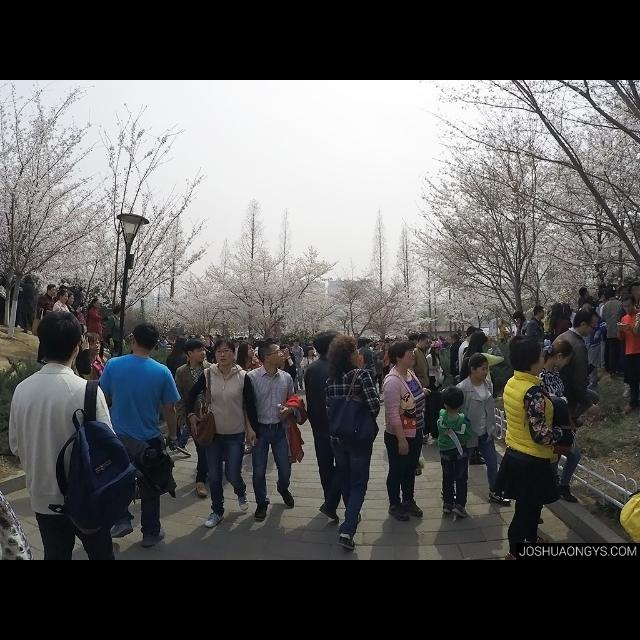head: (36, 310, 84, 362), (511, 337, 547, 378), (131, 324, 161, 354), (388, 340, 418, 368), (548, 340, 576, 370), (333, 339, 362, 367), (573, 307, 599, 338), (317, 330, 345, 358), (215, 338, 238, 368), (258, 342, 286, 366), (468, 353, 490, 382), (185, 339, 207, 363), (443, 389, 465, 411), (81, 333, 102, 355), (470, 331, 488, 351), (622, 294, 636, 316), (240, 342, 256, 358), (176, 337, 190, 355), (276, 345, 290, 361), (417, 334, 429, 350), (467, 327, 479, 341), (534, 305, 546, 319), (552, 304, 564, 318), (582, 304, 594, 316), (432, 344, 442, 356), (450, 334, 460, 346), (562, 305, 572, 317), (598, 289, 608, 301), (92, 298, 101, 310), (362, 338, 372, 348), (515, 314, 525, 324), (114, 306, 122, 318), (580, 288, 590, 296), (608, 289, 616, 299), (293, 339, 301, 348), (24, 276, 32, 284), (307, 347, 315, 355), (548, 308, 554, 316), (376, 346, 382, 352), (502, 320, 506, 324)
person: (94, 324, 180, 548), (320, 333, 384, 552), (186, 336, 258, 530), (514, 338, 584, 526), (241, 338, 309, 524), (303, 329, 365, 527), (438, 353, 514, 509), (542, 302, 604, 488), (174, 336, 230, 499), (74, 329, 130, 487), (382, 340, 428, 522), (459, 330, 505, 444), (436, 385, 474, 519), (165, 336, 207, 454), (231, 339, 269, 458), (458, 326, 490, 430), (578, 303, 610, 392), (408, 331, 432, 447), (600, 288, 628, 377), (547, 302, 575, 386), (424, 340, 446, 438), (593, 286, 619, 368), (526, 304, 548, 394), (273, 344, 299, 414), (555, 303, 581, 371), (576, 287, 602, 355), (447, 334, 469, 408), (513, 310, 535, 378), (17, 273, 38, 339), (105, 304, 126, 368), (355, 336, 377, 394), (300, 348, 324, 400), (86, 296, 104, 360), (287, 338, 305, 392), (372, 344, 388, 396), (542, 308, 556, 344), (498, 320, 509, 350)
